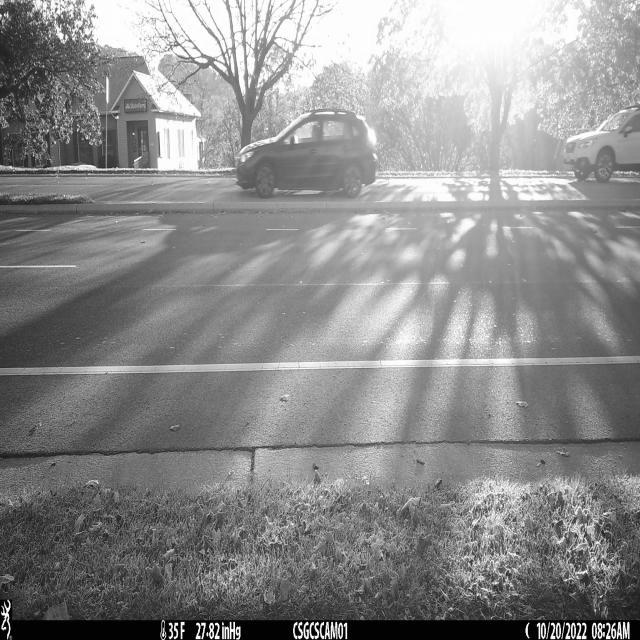Hatchback: (236, 110, 378, 198)
